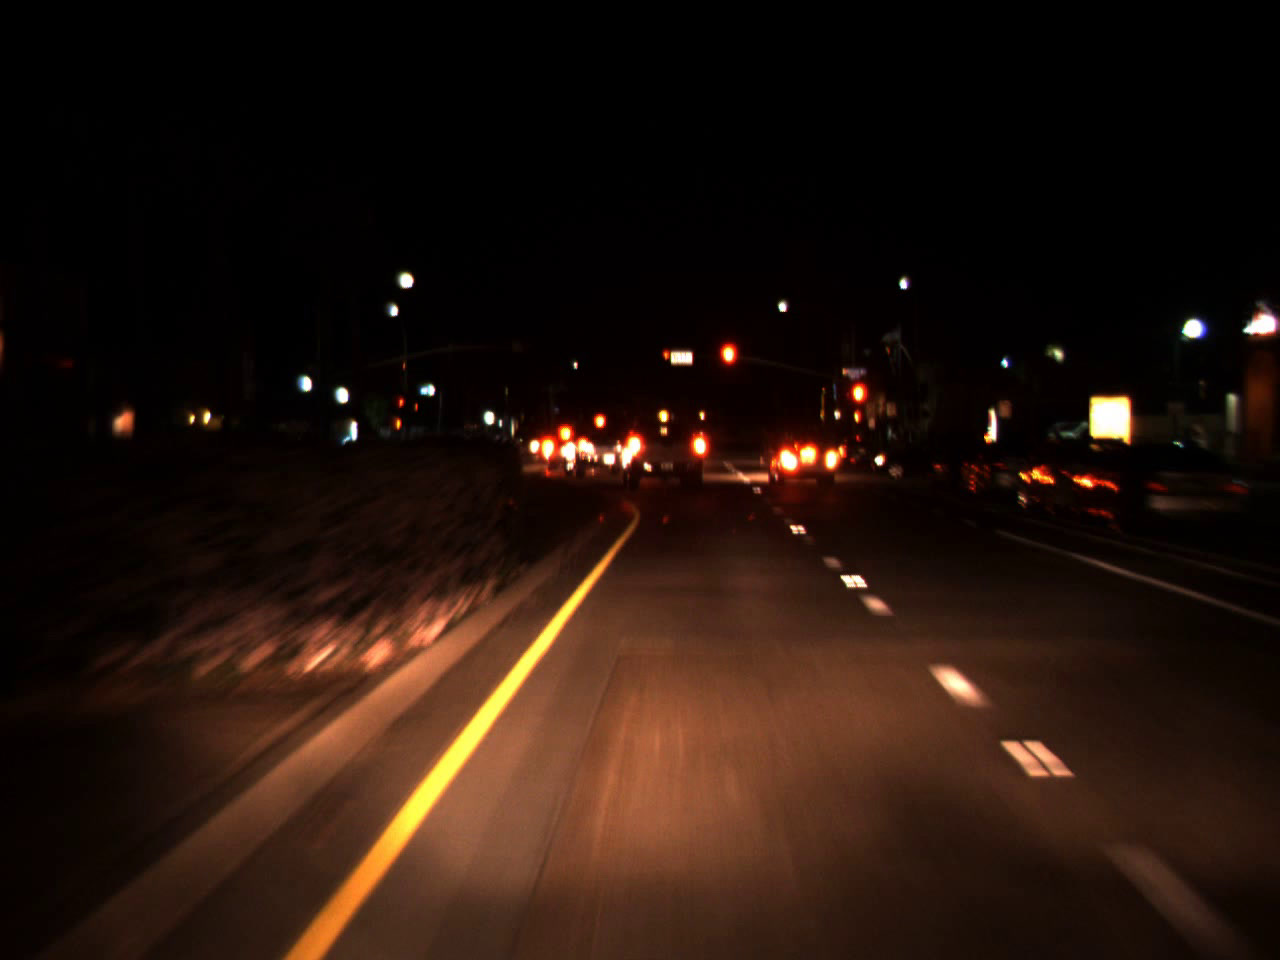stop: (717, 339, 739, 393), (848, 379, 870, 427), (662, 350, 669, 366), (398, 398, 404, 414)
